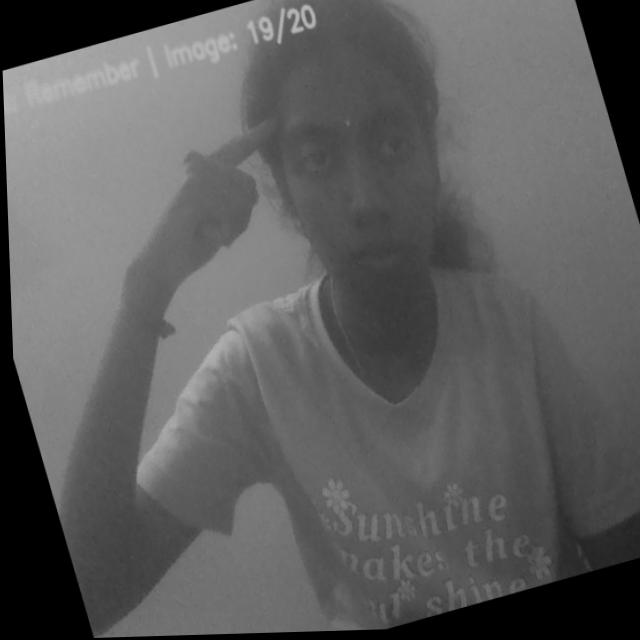Remember: (107, 108, 322, 313)
